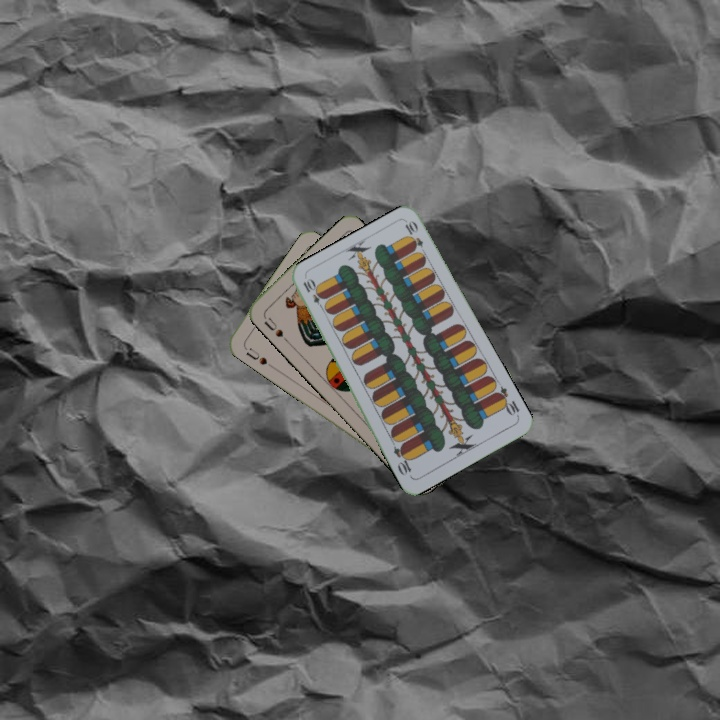E10: (491, 383, 523, 420), (299, 275, 328, 313)
SU: (260, 312, 291, 345), (240, 342, 275, 369)
